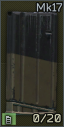FN SCAR-H 7.62x51 20-round magazine FDE: (0, 0, 64, 127)
